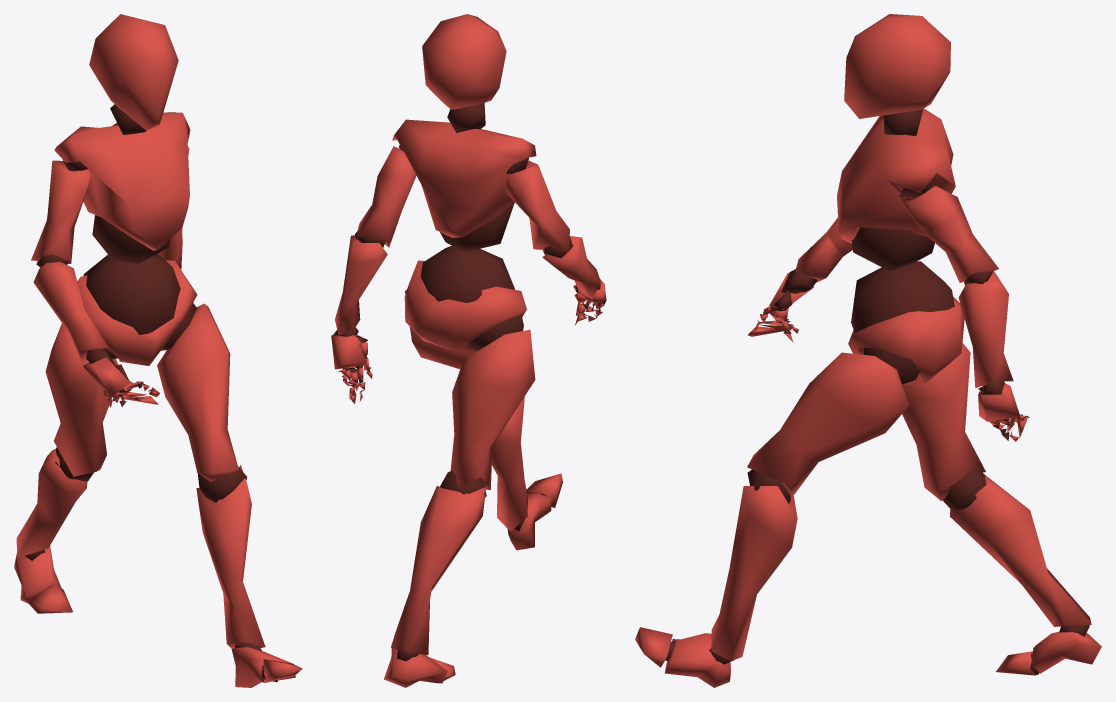
3 renders of one model, left to right at view 1: azimuth 30°, elevation 25°; view 2: azimuth 150°, elevation 25°; view 3: azimuth 270°, elevation 25°, orthographic. The views are drawn at different scales.
Visible parts, largest first — view 1: Beta_Surface; view 2: Beta_Surface; view 3: Beta_Surface.
Part boxes in pixels (box(x1,y1,x2,y2)): Beta_Surface: box(14, 14, 302, 687); Beta_Surface: box(331, 14, 606, 687); Beta_Surface: box(635, 14, 1101, 687).
Size of the model in its own units: 4.62 by 14.02 by 8.86.
